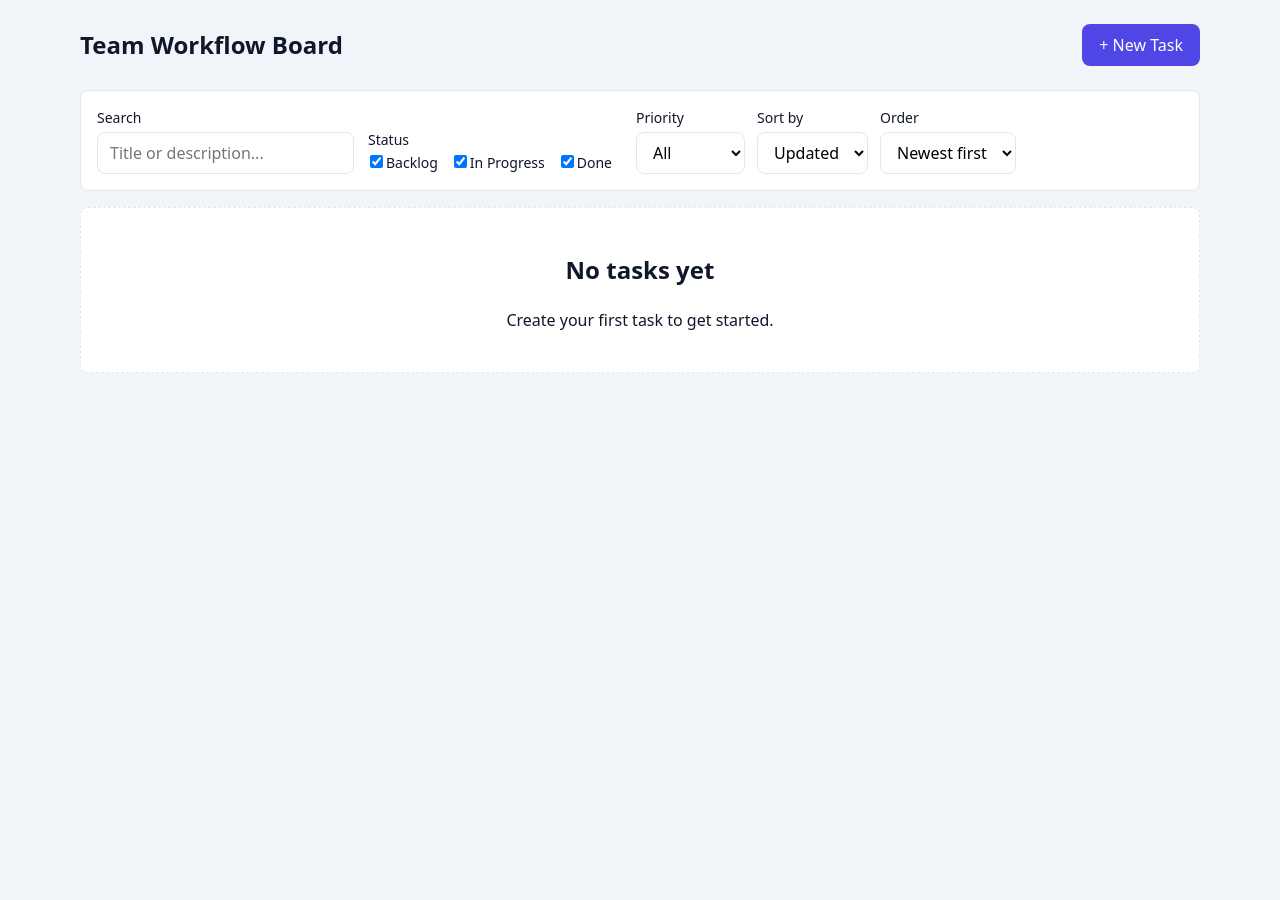
it: create task workflow › creates a task and shows it on the board
expect the heading "No tasks yet" is shown: met, box [566,253,714,286]
Click the button "+ New Task" at (1141, 45), box [1082,24,1200,66]
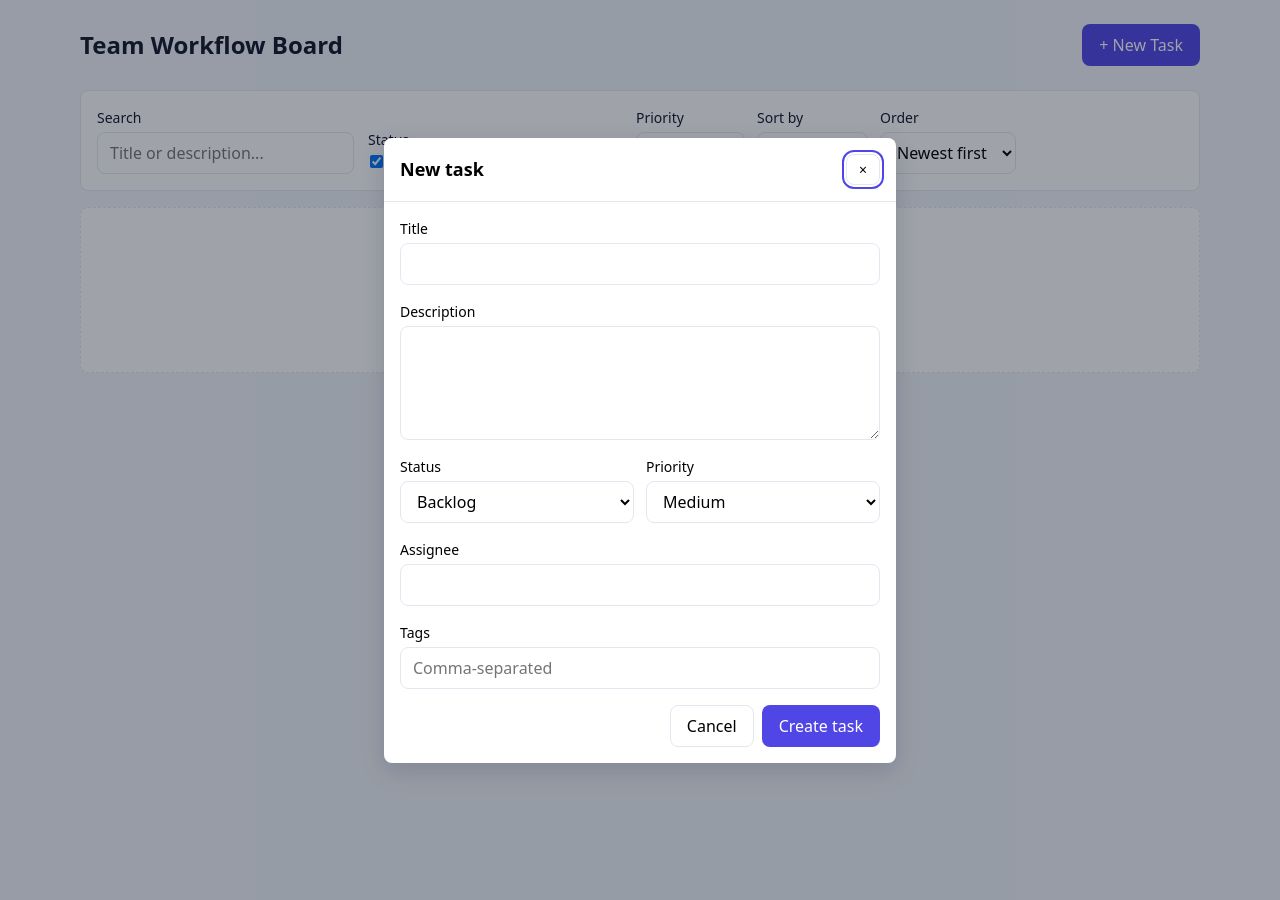
Type "Fix bug" into the field labelled "Title" at (640, 264), box [400,242,880,284]
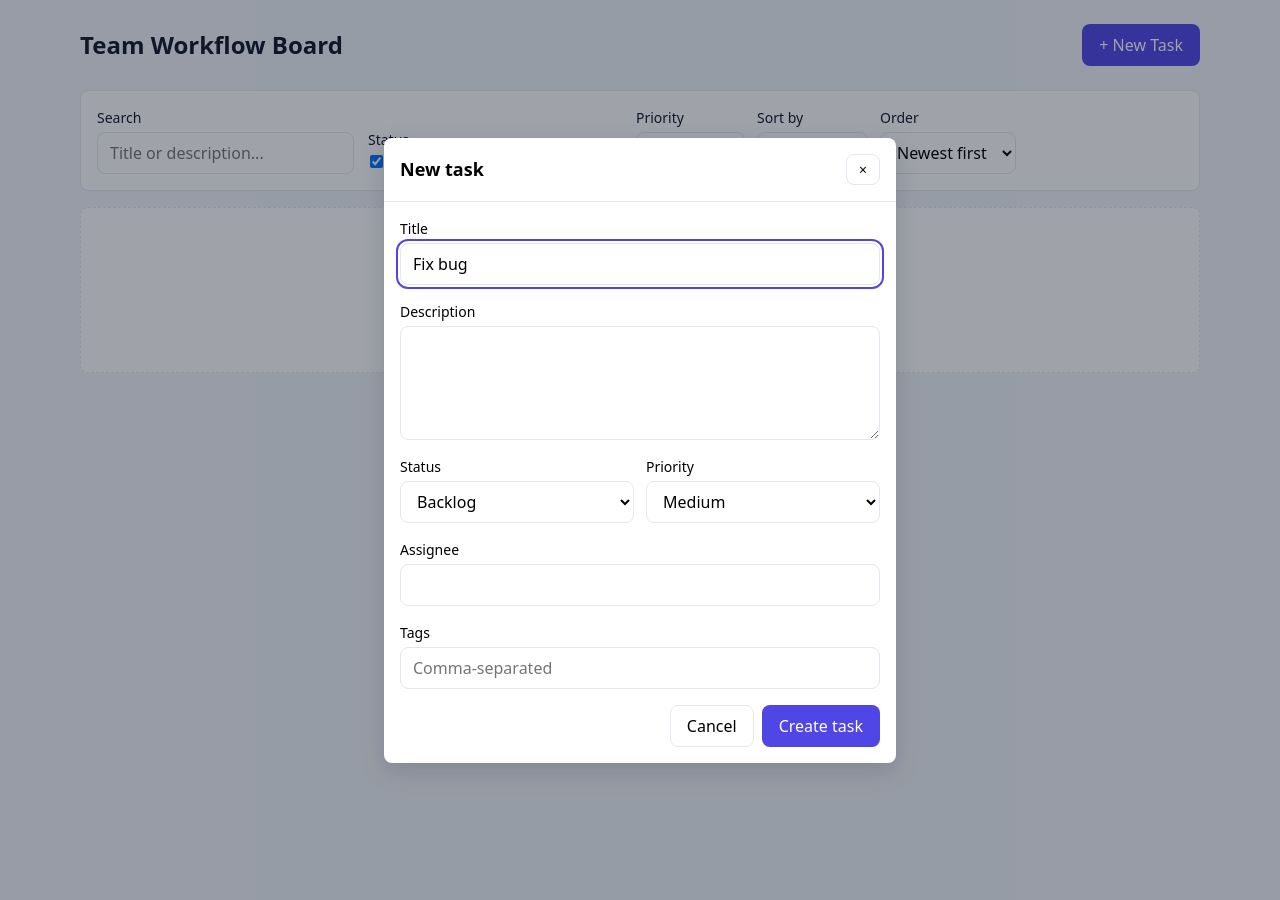
Type "Something is broken" into the text box labelled "Description" at (640, 382), box [400,326,880,440]
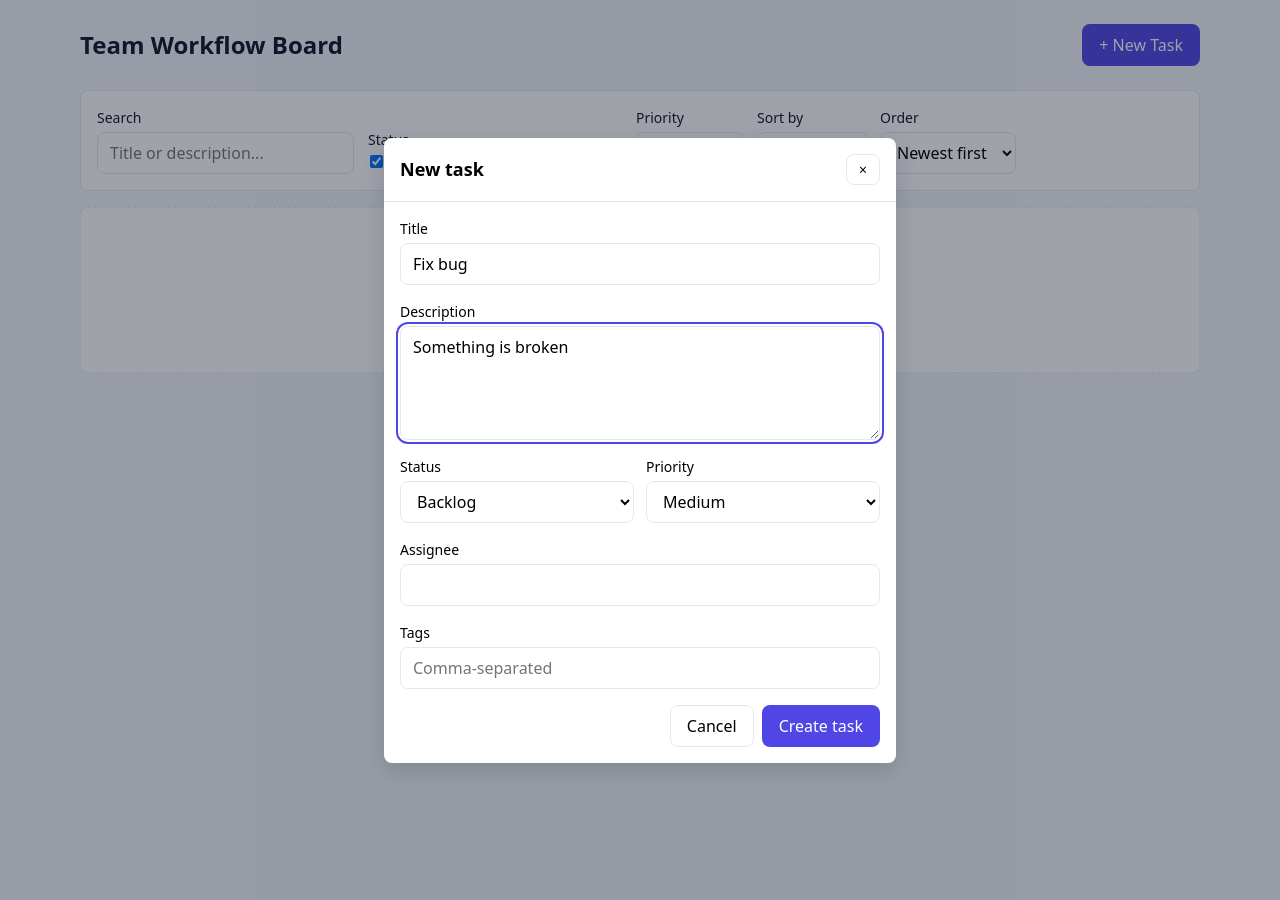
Click the button "Create task" at (821, 726), box [762,704,880,746]
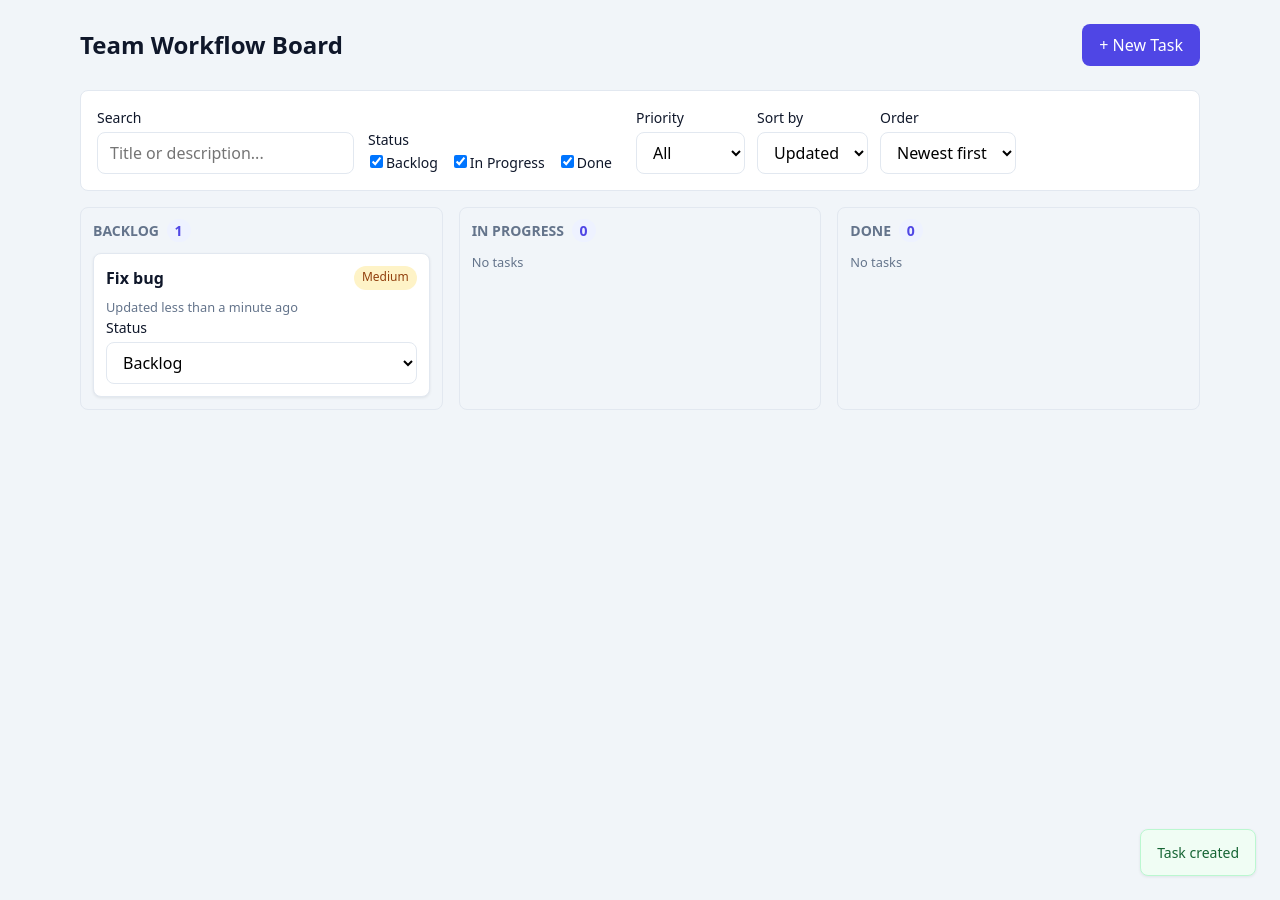
expect the text "Fix bug" is shown: met, box [106,266,164,290]
expect the heading "No tasks yet" is gone: met
